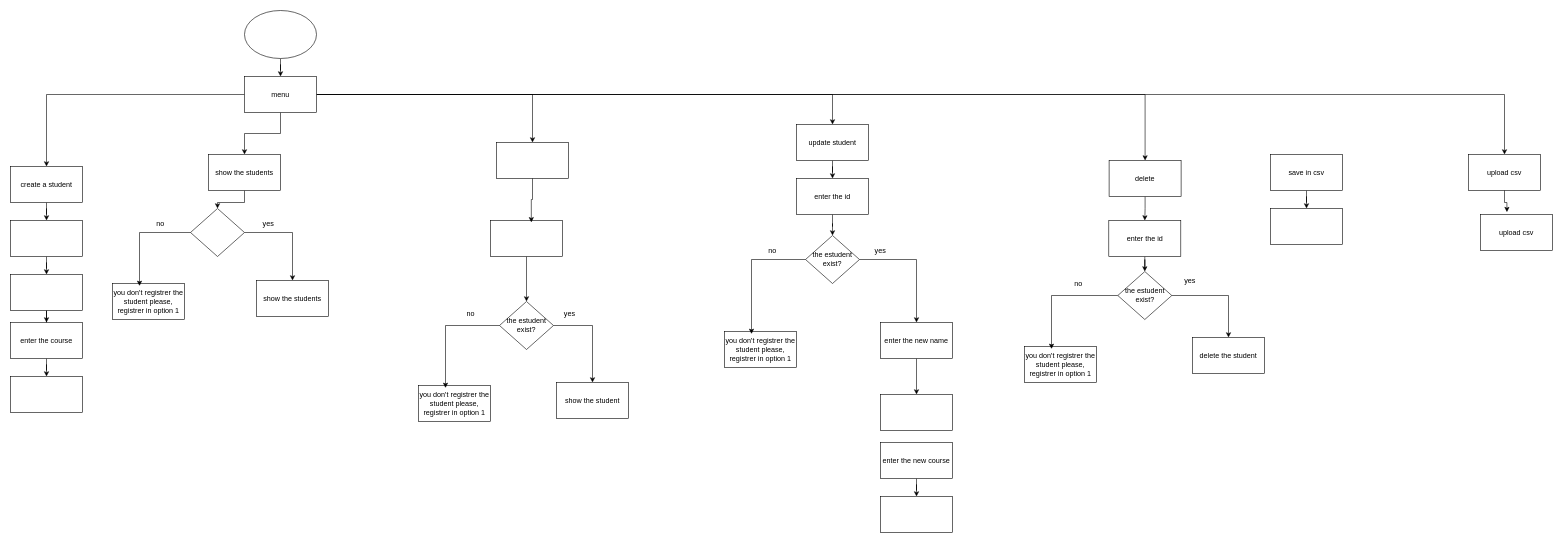
This 1563x543 diagram has some shape labels left out. Each missing label, with the box of its shape:
create a csv: (1270, 208, 1342, 244)
enter id: (490, 220, 562, 256)
enter the age: (10, 274, 82, 310)
enter the name: (10, 220, 82, 256)
enter the new age: (880, 394, 952, 430)
enter the new status: (880, 496, 952, 532)
enter the status active/inactive: (10, 376, 82, 412)
init: (244, 10, 316, 58)
seach a student: (496, 142, 568, 178)
the estudents exist?: (190, 208, 244, 256)
